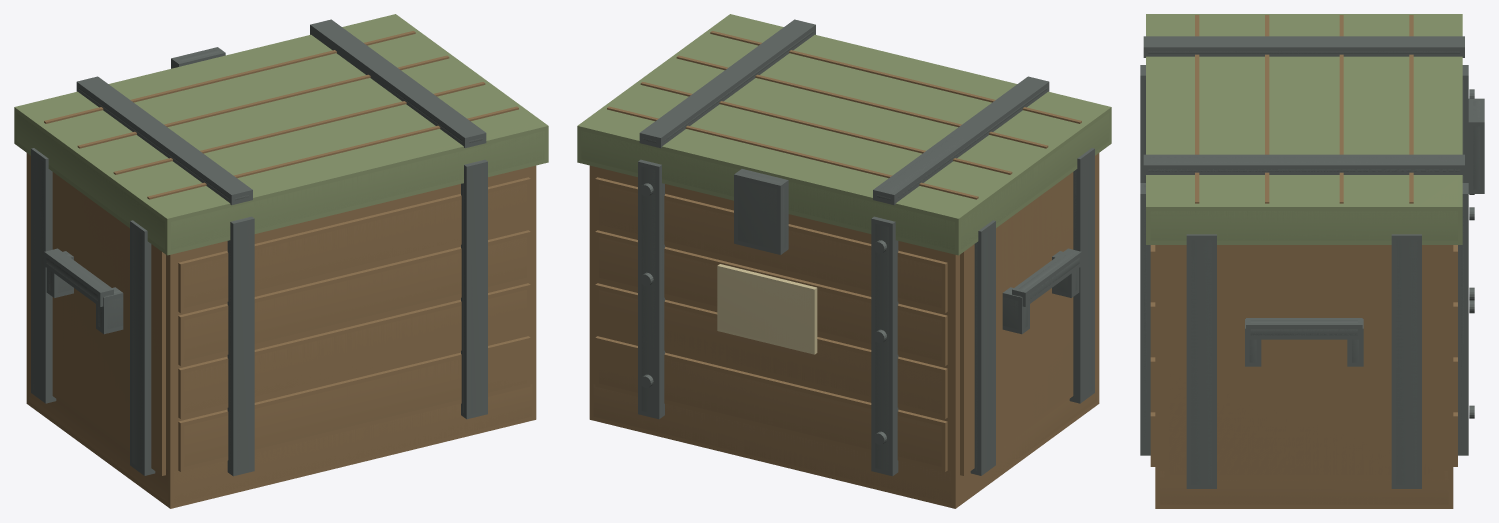
File: SupplyCrate.glb
3 renders of one model, left to right at view 1: azimuth 30°, elevation 25°; view 2: azimuth 150°, elevation 25°; view 3: azimuth 270°, elevation 25°, orthographic. The views are drawn at different scales.
Visible parts, largest first — view 1: LOD0_PropWood, LOD1_PropWood, LOD0_PropPaint, LOD1_PropSteel, LOD1_PropPaint, LOD0_PropSteel, LOD2_PropWood, LOD2_PropSteel; view 2: LOD0_PropWood, LOD0_PropPaint, LOD1_PropWood, LOD1_PropSteel, LOD0_PropSteel, LOD1_PropPaint, LOD2_PropWood, LOD2_PropSteel, LOD0_PropMark, LOD1_PropMark; view 3: LOD0_PropPaint, LOD0_PropWood, LOD1_PropWood, LOD1_PropSteel, LOD0_PropSteel, LOD2_PropSteel, LOD1_PropPaint, LOD2_PropWood.
Part boxes in pixels (x1,y1,x2,y2): LOD0_PropWood: [29, 31, 532, 503]; LOD1_PropWood: [26, 153, 536, 508]; LOD0_PropPaint: [16, 16, 544, 250]; LOD1_PropSteel: [31, 21, 487, 476]; LOD1_PropPaint: [14, 14, 548, 255]; LOD0_PropSteel: [33, 29, 484, 471]; LOD2_PropWood: [26, 153, 536, 487]; LOD2_PropSteel: [77, 19, 486, 451]; LOD0_PropWood: [593, 31, 1096, 503]; LOD0_PropPaint: [581, 17, 1109, 250]; LOD1_PropWood: [589, 153, 1099, 508]; LOD1_PropSteel: [638, 21, 1094, 476]; LOD0_PropSteel: [640, 26, 1092, 470]; LOD1_PropPaint: [577, 14, 1111, 255]; LOD2_PropWood: [589, 153, 1099, 488]; LOD2_PropSteel: [638, 19, 1048, 371]; LOD0_PropMark: [719, 269, 812, 351]; LOD1_PropMark: [717, 264, 817, 354]; LOD0_PropPaint: [1150, 16, 1457, 240]; LOD0_PropWood: [1160, 15, 1448, 504]; LOD1_PropWood: [1150, 245, 1457, 508]; LOD1_PropSteel: [1140, 47, 1484, 488]; LOD0_PropSteel: [1144, 51, 1480, 484]; LOD2_PropSteel: [1140, 36, 1468, 455]; LOD1_PropPaint: [1146, 14, 1462, 244]; LOD2_PropWood: [1155, 245, 1453, 487].
Bounding box in the file's own units: 1.08 × 0.7475 × 0.74.
